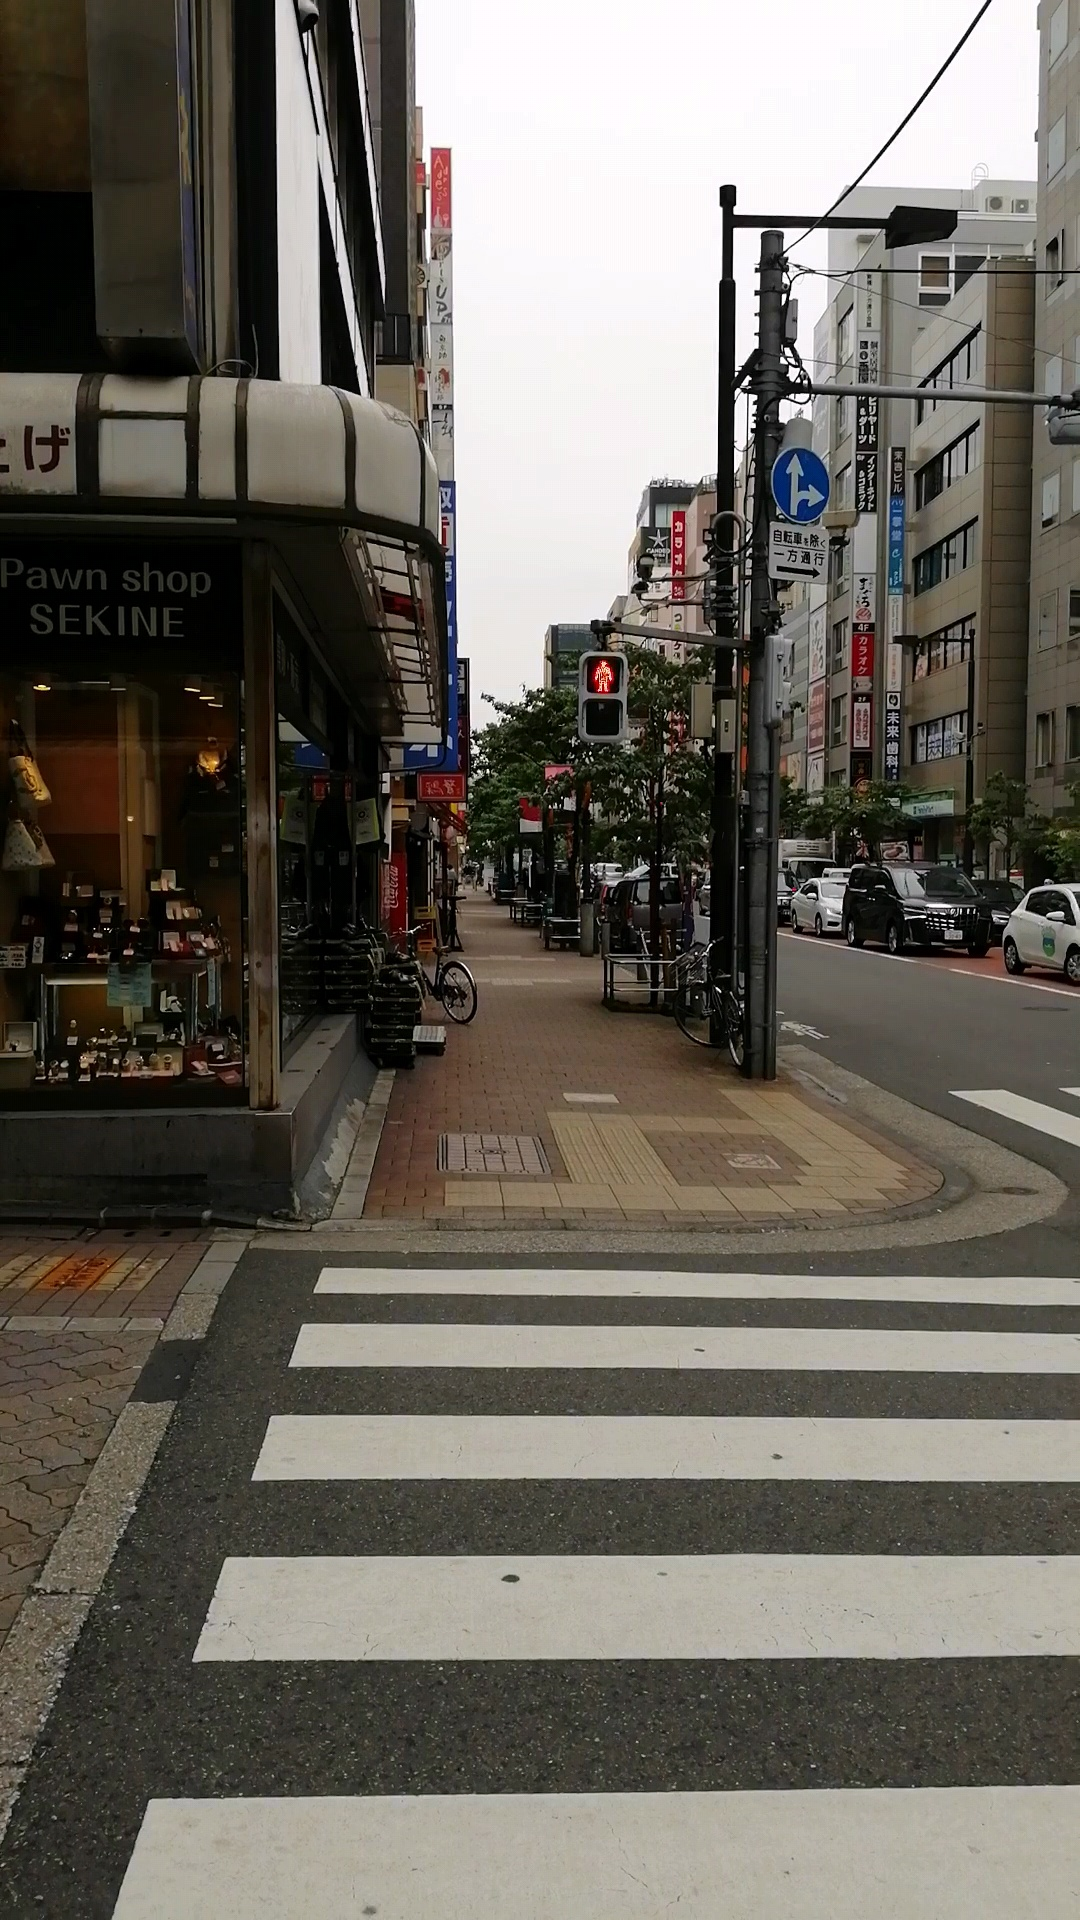red: (576, 647, 626, 744)
